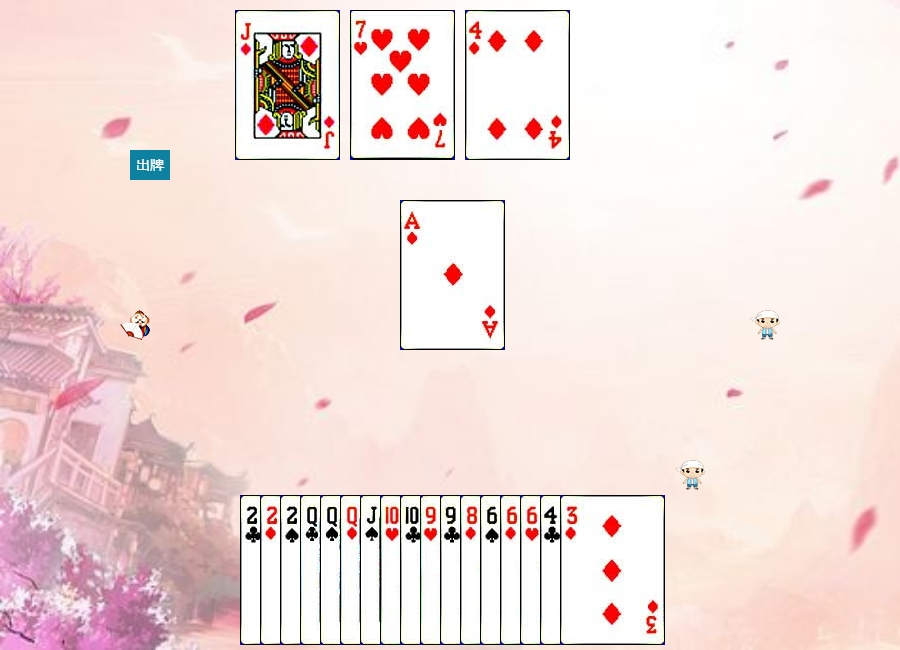10~2: (400, 495, 505, 645)
10~3: (380, 495, 485, 645)
11~1: (235, 10, 340, 160)
11~4: (360, 495, 465, 645)
12~1: (340, 495, 445, 645)
12~2: (300, 495, 405, 645)
12~4: (320, 495, 425, 645)
14~1: (400, 200, 505, 350)
15~1: (260, 495, 365, 645)
15~2: (240, 495, 345, 645)
15~4: (280, 495, 385, 645)
3~1: (560, 495, 665, 645)
4~1: (465, 10, 570, 160)
4~2: (540, 495, 645, 645)
6~1: (500, 495, 605, 645)
6~3: (520, 495, 625, 645)
6~4: (480, 495, 585, 645)
7~3: (350, 10, 455, 160)
8~1: (460, 495, 565, 645)
9~2: (440, 495, 545, 645)
9~3: (420, 495, 525, 645)
